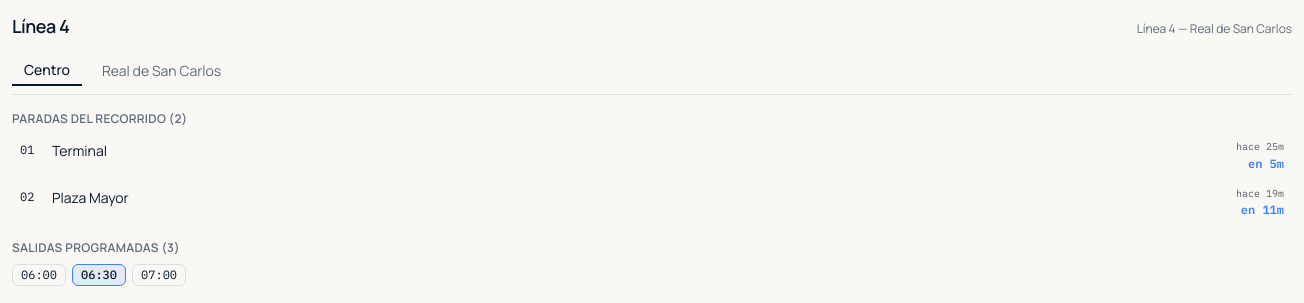
LineScheduleCard › R-03 switching tabs swaps the visible departures
Click the tab with test id "line-tab-1". click: x=162, y=71
box: [90,56,233,86]
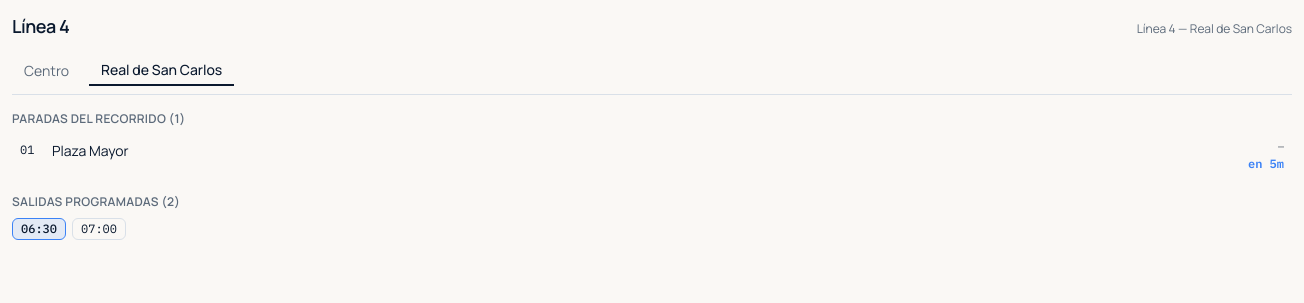
Check: the element with test id "line-departures-section" shows "06:30", box [21,220,57,236]
Check: the list item "06:00" is gone
